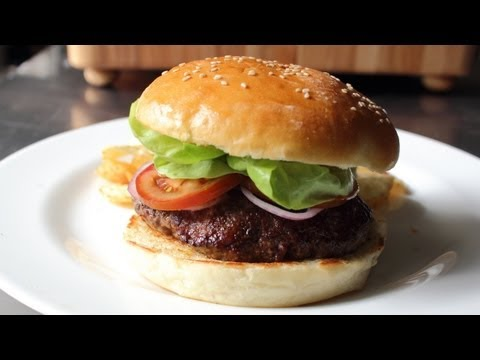hamburger_buns: (137, 58, 395, 307)
